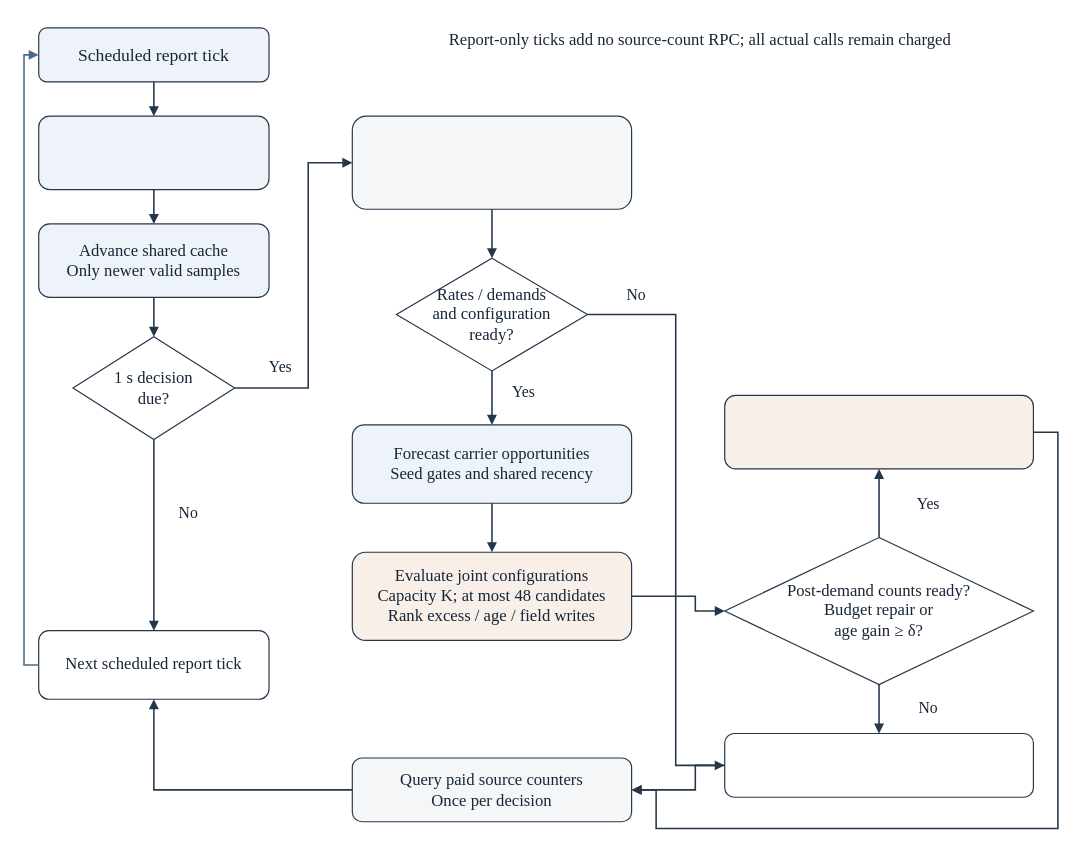
The diagram is 1084 pixels wide and 854 high, and some of its shapes have lost their labels. Here are the shapes that lost their labels. From the top down, the centre of each, then its label:
(x=153, y=152): Read completed report prefix Record actual availability
(x=491, y=162): Apply field confirmations Reconcile unresolved fields Receive demands / own fees
(x=879, y=431): Submit at most 6 field writes Record individual confirmations
(x=879, y=764): Keep confirmed configuration
